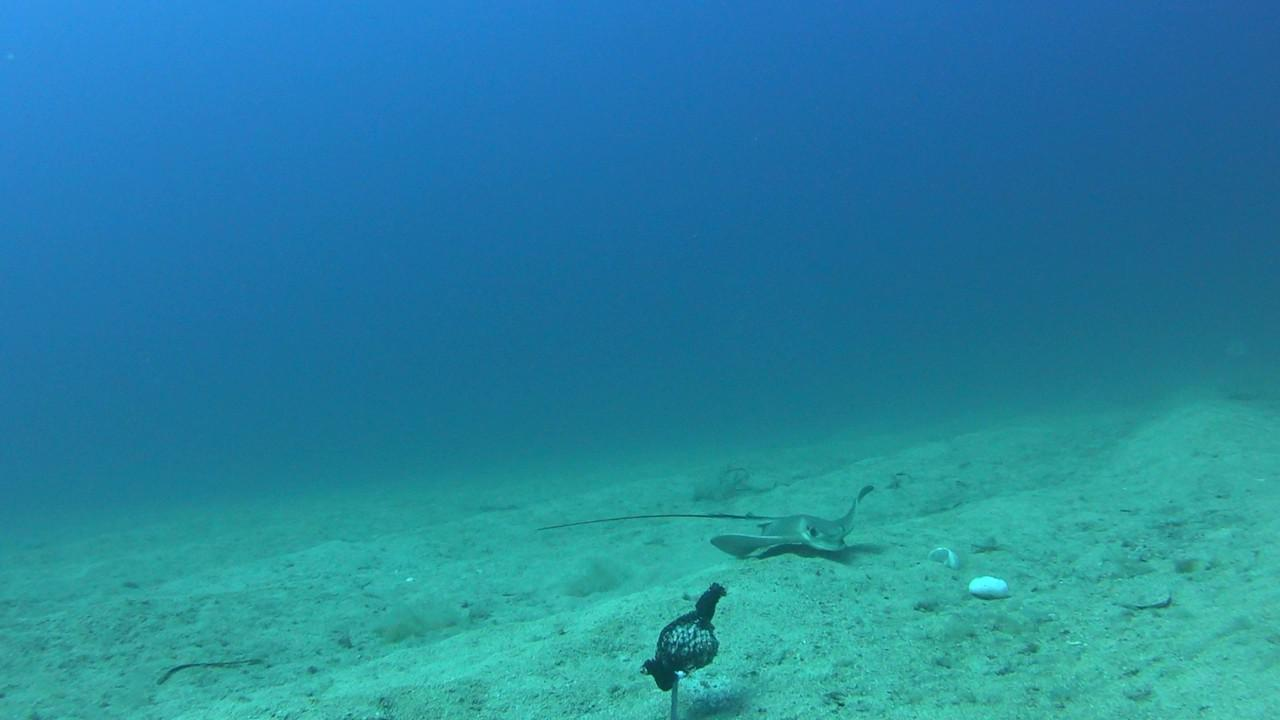myliobatis: (521, 488, 898, 563)
